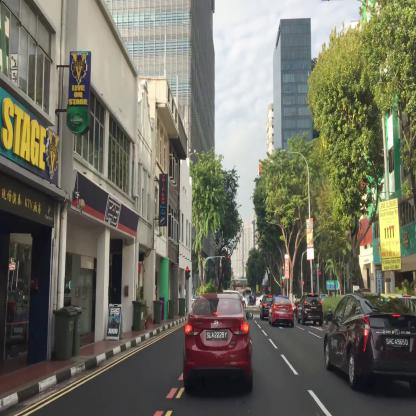red_traffic_light: (186, 267, 188, 279), (224, 255, 230, 258)
